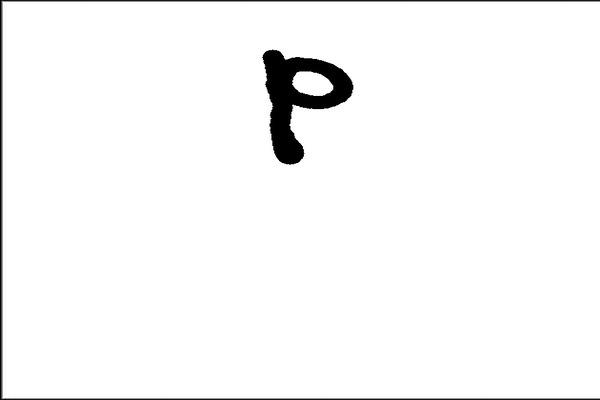P: (246, 42, 358, 167)
